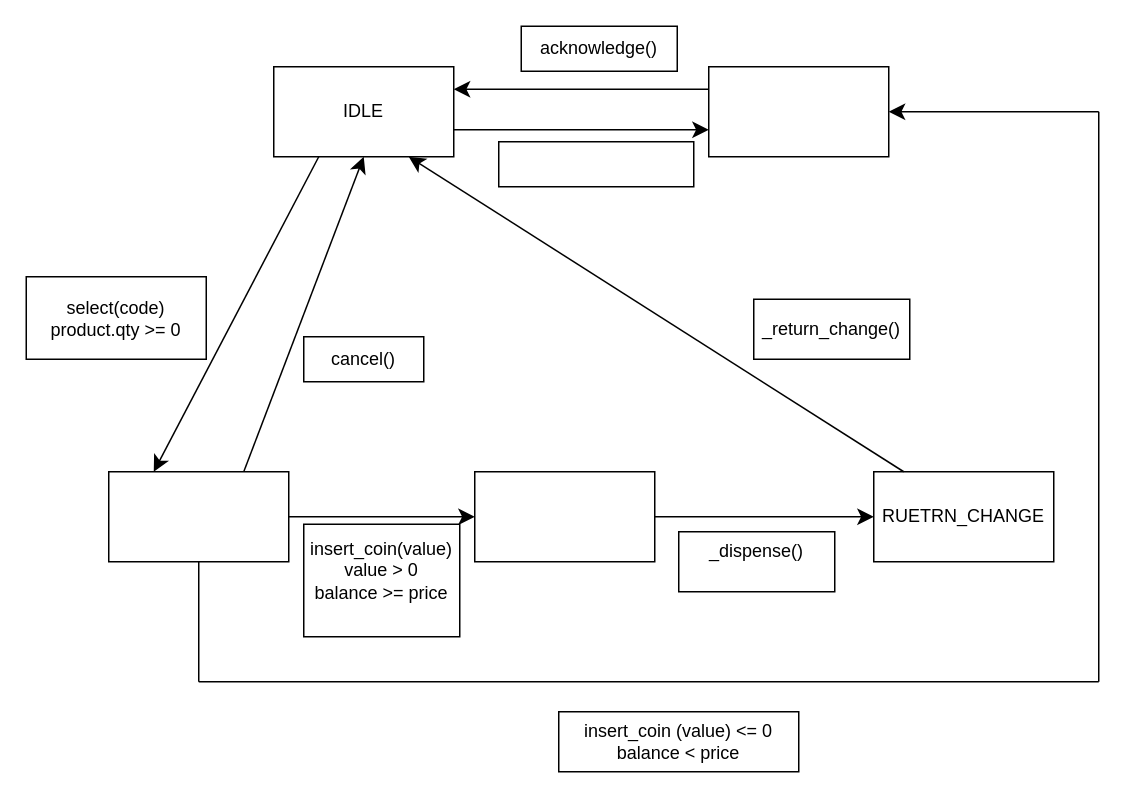
This 1127x798 diagram has some shape labels left out. Here are the shapes that lost their labels. From the top down, the centre of each, then its label:
(x=798, y=111): ERROR
(x=595, y=163): product.qty <= 0
(x=198, y=516): ITEM_SELECTED
(x=564, y=516): DISPENSING
